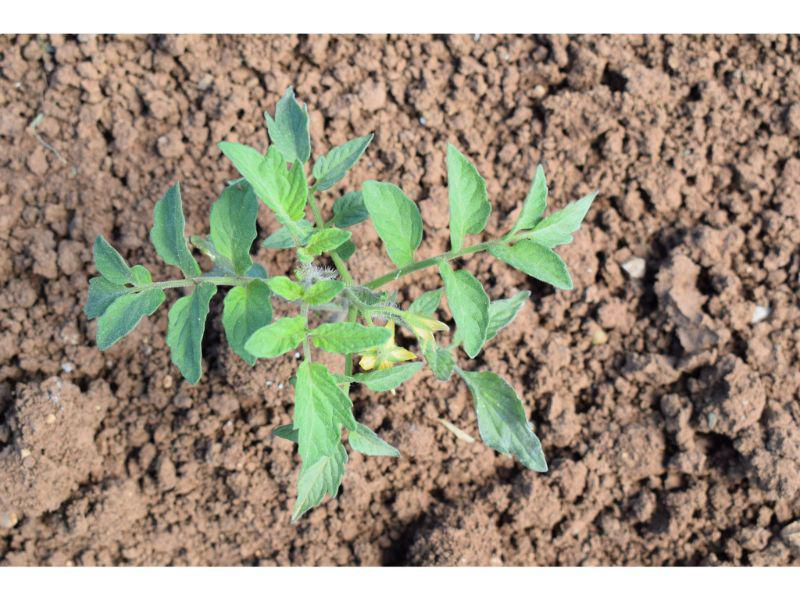tomato: (87, 84, 599, 520)
